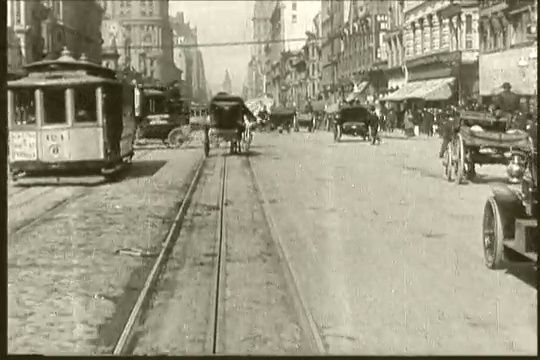car: (472, 142, 539, 288), (324, 93, 385, 145)
carriage: (430, 82, 540, 188), (184, 84, 258, 160), (139, 73, 210, 151), (290, 97, 319, 133)
trolley: (4, 51, 147, 173)
